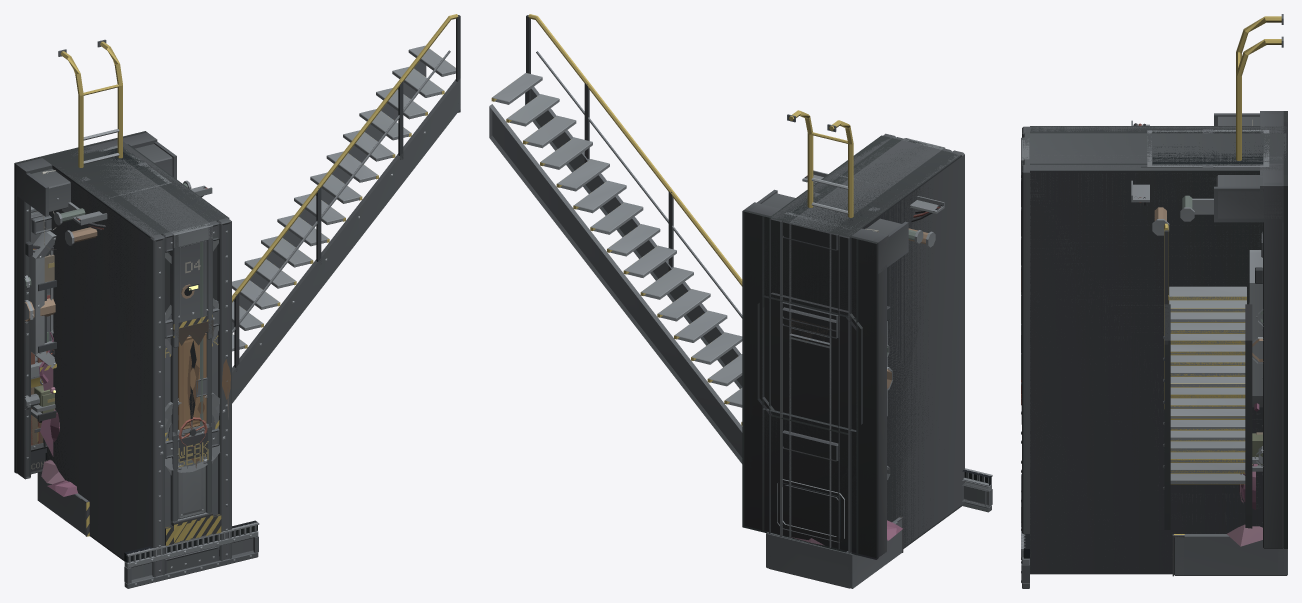
Rendered from roomkit.glb.
3 views of the same model, side by side, from view 1: azimuth 30°, elevation 25°; view 2: azimuth 150°, elevation 25°; view 3: azimuth 270°, elevation 25° (orthographic). The views are drawn at different scales.
Parts seen in each view (by area): view 1: hull_airlock, stairs, hull_end, bulkhead_solid, wall_cabin, bulkhead_door, ceiling_pipes, bulkhead_weak, floor_trim, bulkhead_breach, wall_window, ladder (+4 smaller); view 2: wall_cabin, hull_airlock, stairs, wall_window, hull_end, shaft_rim, bulkhead_breach, bulkhead_door, bulkhead_solid, ceiling_pipes, ladder, bulkhead_weak (+1 smaller); view 3: hull_airlock, hull_end, stairs, wall_cabin, ceiling_pipes, shaft_rim, wall_window, vent_ceiling, ladder, biomass, floor_trim, ceiling_lamp (+2 smaller).
Part boxes in pixels (<box>): hull_airlock: <box>41,138,228,561</box>; stairs: <box>232,14,460,403</box>; hull_end: <box>41,142,231,577</box>; bulkhead_solid: <box>104,159,213,542</box>; wall_cabin: <box>14,131,157,479</box>; bulkhead_door: <box>107,159,212,337</box>; ceiling_pipes: <box>16,142,212,245</box>; bulkhead_weak: <box>104,159,210,525</box>; floor_trim: <box>124,520,259,588</box>; bulkhead_breach: <box>122,162,213,543</box>; wall_window: <box>15,139,113,470</box>; ladder: <box>58,39,122,167</box>; wall_cabin: <box>742,202,888,559</box>; hull_airlock: <box>769,134,963,588</box>; stairs: <box>489,14,742,463</box>; wall_window: <box>743,210,887,559</box>; hull_end: <box>769,133,964,587</box>; shaft_rim: <box>766,516,903,588</box>; bulkhead_breach: <box>789,138,945,548</box>; bulkhead_door: <box>789,138,944,547</box>; bulkhead_solid: <box>789,138,941,545</box>; ceiling_pipes: <box>757,170,944,273</box>; ladder: <box>787,110,853,217</box>; bulkhead_weak: <box>789,140,942,537</box>; hull_airlock: <box>1021,126,1287,574</box>; hull_end: <box>1021,126,1286,574</box>; stairs: <box>1163,223,1252,529</box>; wall_cabin: <box>1260,111,1287,548</box>; ceiling_pipes: <box>1131,113,1283,235</box>; shaft_rim: <box>1172,534,1287,576</box>; wall_window: <box>1249,111,1287,407</box>; vent_ceiling: <box>1147,130,1269,166</box>; ladder: <box>1236,14,1283,160</box>; biomass: <box>1227,403,1262,546</box>; floor_trim: <box>1021,474,1029,588</box>; ceiling_lamp: <box>1192,129,1213,214</box>.
Bounding box in the file's own units: 6 × 6.5 × 3.
